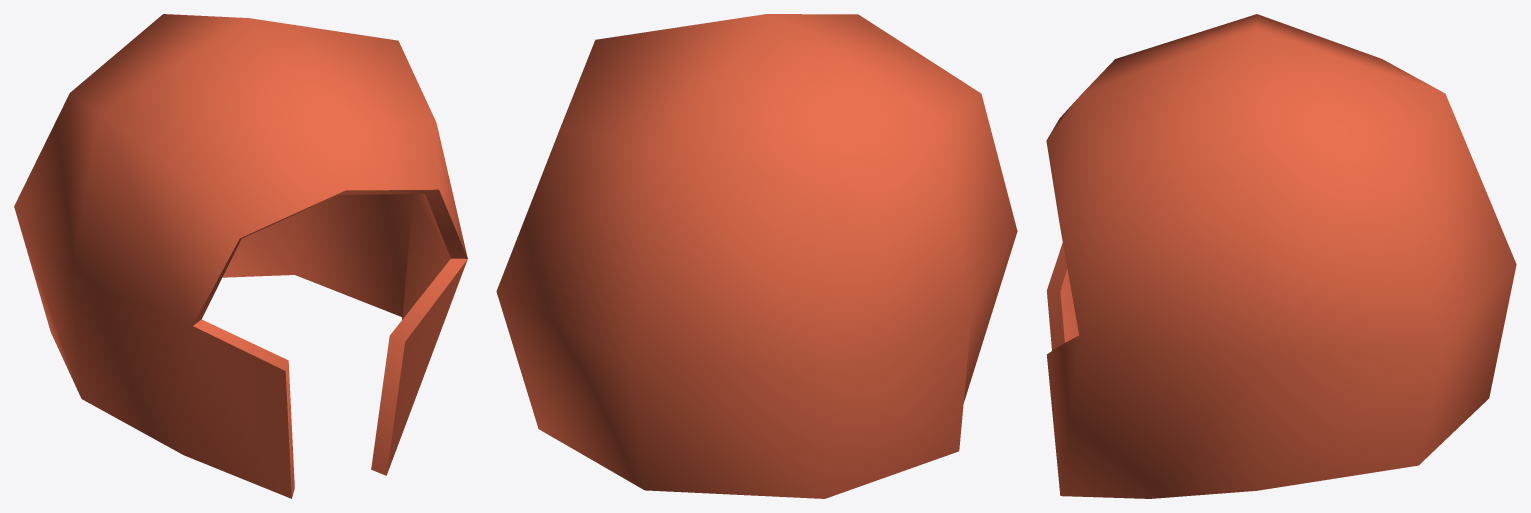
File: kask.fbx
3 views of the same model, side by side, from view 1: azimuth 30°, elevation 25°; view 2: azimuth 150°, elevation 25°; view 3: azimuth 270°, elevation 25° (orthographic). The views are drawn at different scales.
Visible parts, largest first — view 1: kask; view 2: kask; view 3: kask.
Boxes of the visible parts, left/top/right/bottom form: kask: left=14, top=14, right=467, bottom=498; kask: left=496, top=14, right=1017, bottom=498; kask: left=1046, top=14, right=1516, bottom=498.
Size of the model in its own units: 547 by 589 by 569.
